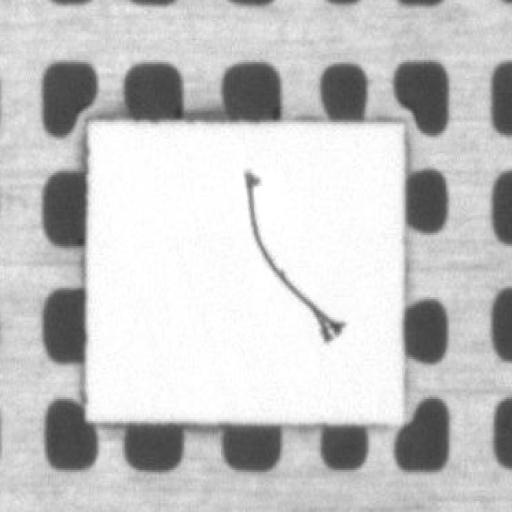DIE_INK: (242, 170, 343, 344)
